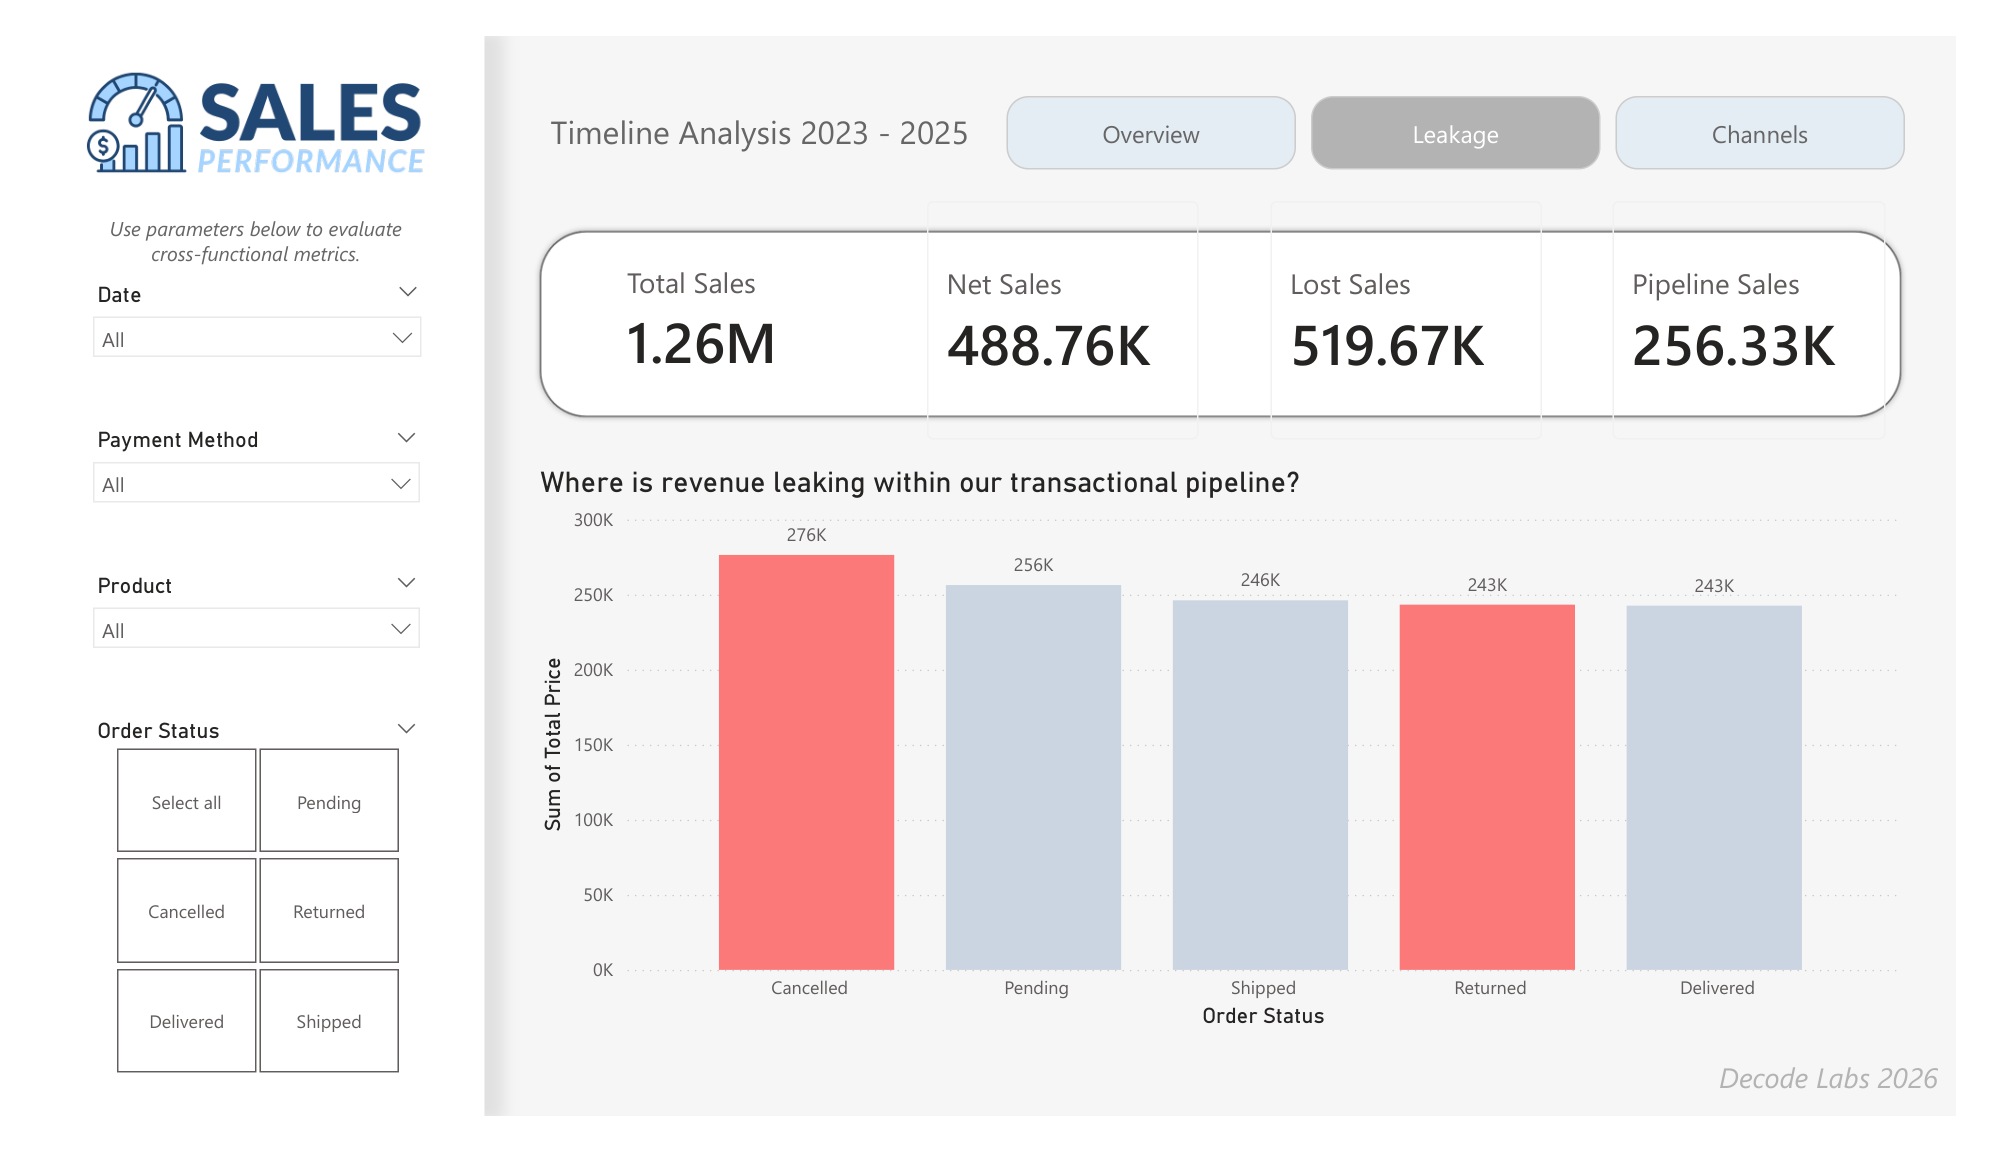

What the dashboard file says about the page in this screenshot:
{"tool":"powerbi","page":{"name":"Leakage","canvas":[1280,720],"ordinal":1},"visuals":[{"type":"clusteredColumnChart","title":"Where is revenue leaking within our transactional pipeline?","fields":{"Category":["Clean_Dataset_Data_Analytics.OrderStatus"],"Y":["Sum(Clean_Dataset_Data_Analytics.TotalPrice)"]},"box":[331.4,285.7,915.7,380],"z":0},{"type":"pageNavigator","box":[647.2,39.6,600.4,49.2],"z":1000},{"type":"shape","box":[332.1,126.2,915.3,131.7],"z":2000},{"type":"cardVisual","fields":{"Data":["Sum(Clean_Dataset_Data_Analytics.TotalPrice)"]},"box":[364.8,92.7,199,193.5],"z":3000},{"type":"cardVisual","fields":{"Data":["Sum(Clean_Dataset_Data_Analytics.TotalPrice)"]},"box":[577,92.7,215.4,193.5],"z":4000},{"type":"cardVisual","fields":{"Data":["Sum(Clean_Dataset_Data_Analytics.TotalPrice)"]},"box":[805.7,92.7,215.4,193.5],"z":5000},{"type":"cardVisual","fields":{"Data":["Sum(Clean_Dataset_Data_Analytics.TotalPrice)"]},"box":[1034.4,92.7,215.4,193.5],"z":6000},{"type":"shape","box":[0,0,299.1,720],"z":7000},{"type":"image","box":[0,0,338.6,114.3],"z":8000},{"type":"textbox","box":[1010,675.7,262.9,44.3],"z":9000},{"type":"slicer","fields":{"Values":["Clean_Dataset_Data_Analytics.OrderStatus"]},"box":[28,449.8,237.7,248.6],"z":10000},{"type":"slicer","fields":{"Values":["Clean_Dataset_Data_Analytics.PaymentMethod"]},"box":[28,256.1,237.7,76.8],"z":11000},{"type":"slicer","fields":{"Values":["Clean_Dataset_Data_Analytics.Product"]},"box":[28,352.9,237.7,76.8],"z":12000},{"type":"slicer","fields":{"Values":["Clean_Dataset_Data_Analytics.Date Hierarchy.Year_Label","Clean_Dataset_Data_Analytics.Date Hierarchy.Month_Label","Clean_Dataset_Data_Analytics.Date Hierarchy.Day_Label"]},"box":[28,159.4,238.8,76.8],"z":13000},{"type":"textbox","box":[35,114.2,223.3,62.5],"z":14000},{"type":"textbox","box":[338.2,43.5,310,40.6],"z":15000}]}

Visuals, with their boxes in screenshot pixels (x1, y1, x2, y2), scaled from the page's 1280x720 canvas onto the 1992x1152 screenshot:
"Where is revenue leaking within our transactional pipeline?" clusteredColumnChart: box=[516, 457, 1941, 1065]
pageNavigator: box=[1007, 63, 1942, 142]
shape: box=[517, 202, 1941, 413]
cardVisual - Sum(Clean_Dataset_Data_Analytics.TotalPrice): box=[568, 148, 877, 458]
cardVisual - Sum(Clean_Dataset_Data_Analytics.TotalPrice): box=[898, 148, 1233, 458]
cardVisual - Sum(Clean_Dataset_Data_Analytics.TotalPrice): box=[1254, 148, 1589, 458]
cardVisual - Sum(Clean_Dataset_Data_Analytics.TotalPrice): box=[1610, 148, 1945, 458]
shape: box=[0, 0, 465, 1151]
image: box=[0, 0, 527, 183]
textbox: box=[1572, 1081, 1981, 1151]
slicer - Clean_Dataset_Data_Analytics.OrderStatus: box=[44, 720, 413, 1117]
slicer - Clean_Dataset_Data_Analytics.PaymentMethod: box=[44, 410, 413, 533]
slicer - Clean_Dataset_Data_Analytics.Product: box=[44, 565, 413, 688]
slicer - Clean_Dataset_Data_Analytics.Date Hierarchy.Year_Label x Clean_Dataset_Data_Analytics.Date Hierarchy.Month_Label: box=[44, 255, 415, 378]
textbox: box=[54, 183, 402, 283]
textbox: box=[526, 70, 1009, 135]
